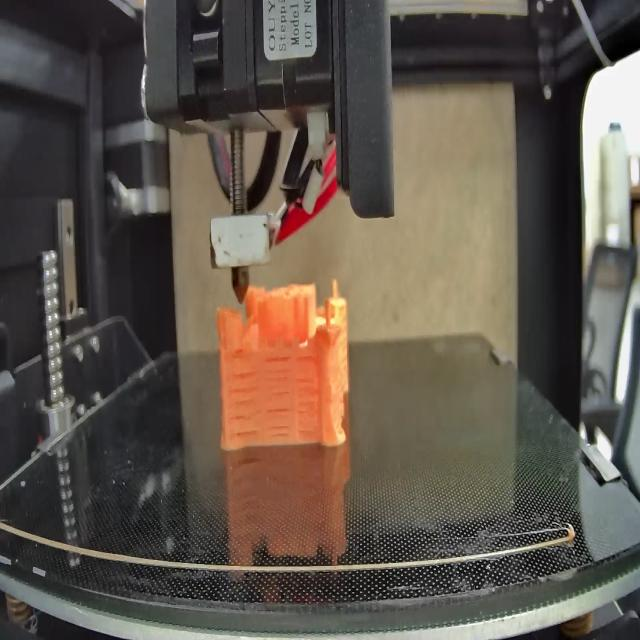cracks: (230, 368, 262, 436), (296, 375, 322, 435), (265, 353, 291, 398), (263, 406, 293, 436), (295, 349, 323, 366)
